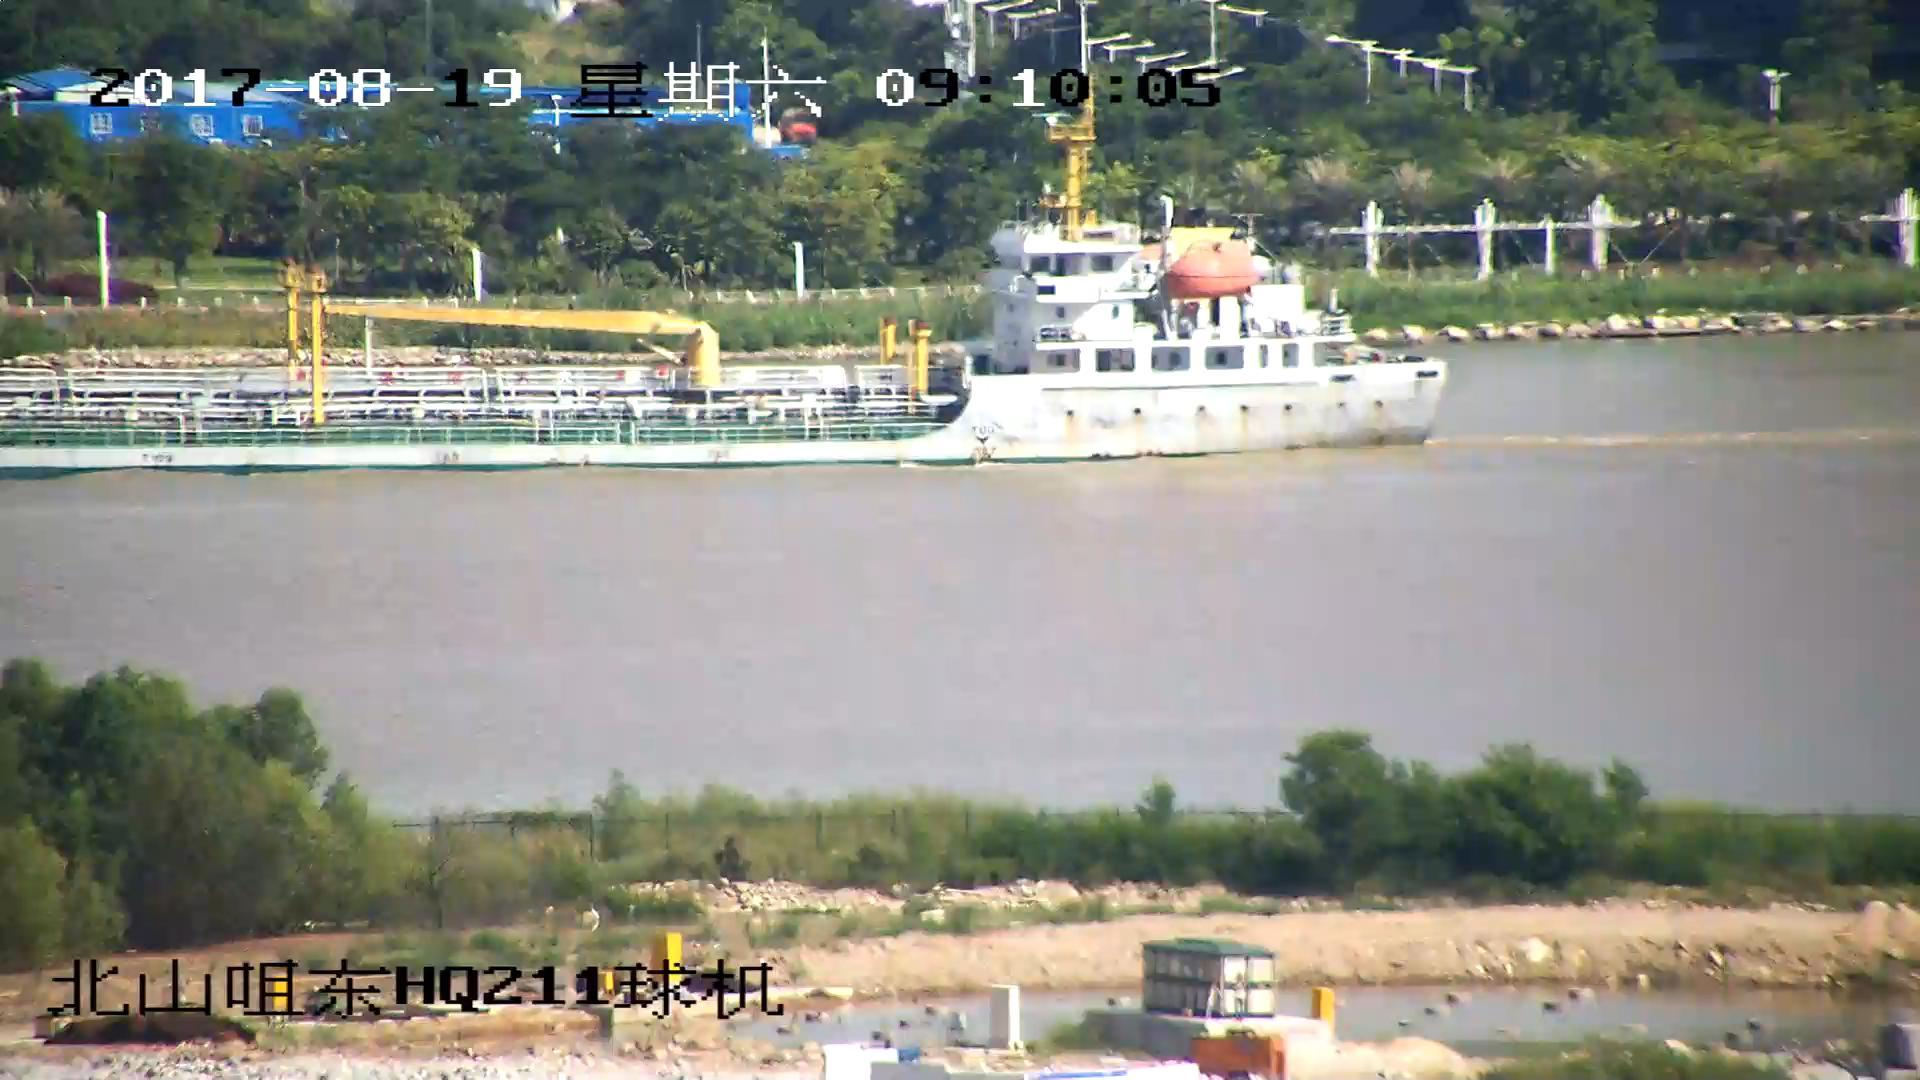Ship: (3, 127, 1451, 477)
